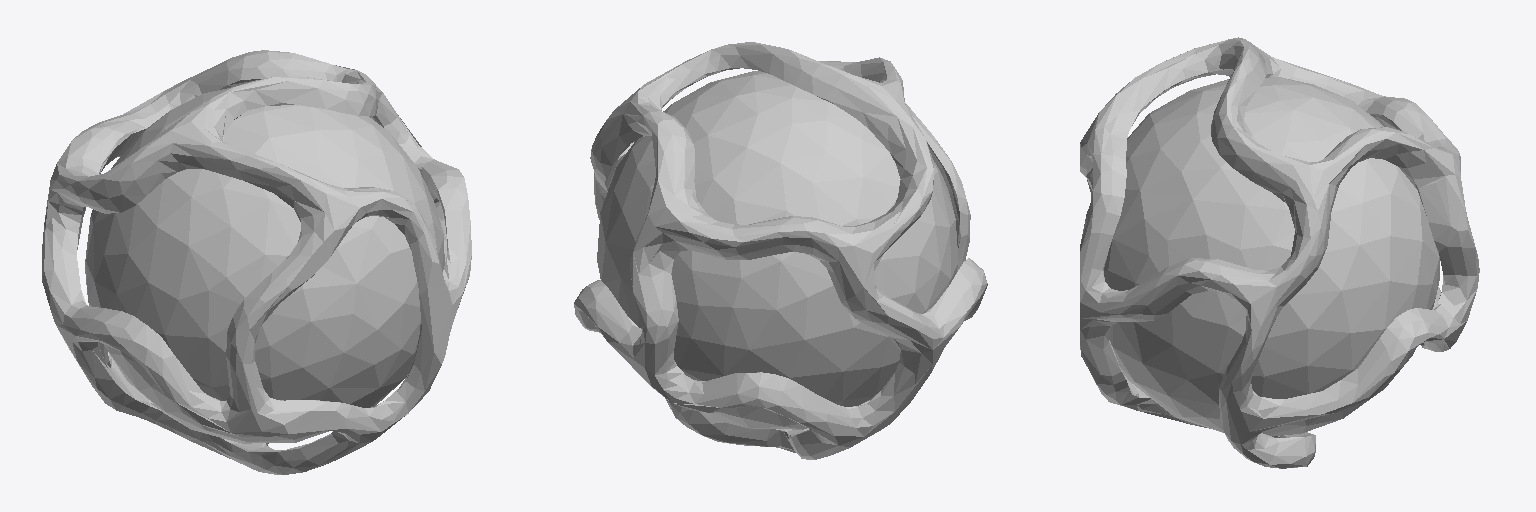
Rendered from unit_0.obj.
3 views of the same model, side by side, from view 1: azimuth 30°, elevation 25°; view 2: azimuth 150°, elevation 25°; view 3: azimuth 270°, elevation 25° (orthographic).
Visible parts, largest first — view 1: Vine_Only, Ball_Only; view 2: Ball_Only, Vine_Only; view 3: Ball_Only, Vine_Only.
Part boxes in pixels (x1,y1,x2,y2): Vine_Only: (42,50,471,474); Ball_Only: (85,87,444,443); Ball_Only: (597,71,958,429); Vine_Only: (574,42,987,459); Ball_Only: (1081,77,1439,435); Vine_Only: (1080,37,1479,468).
Size of the model in its own units: 50.08 by 49.53 by 46.42.